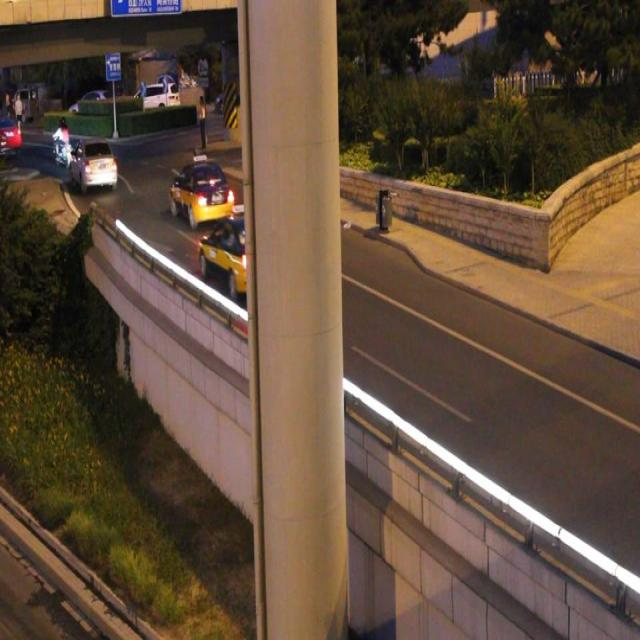car: (202, 216, 278, 297), (172, 159, 232, 226), (70, 141, 116, 191)
